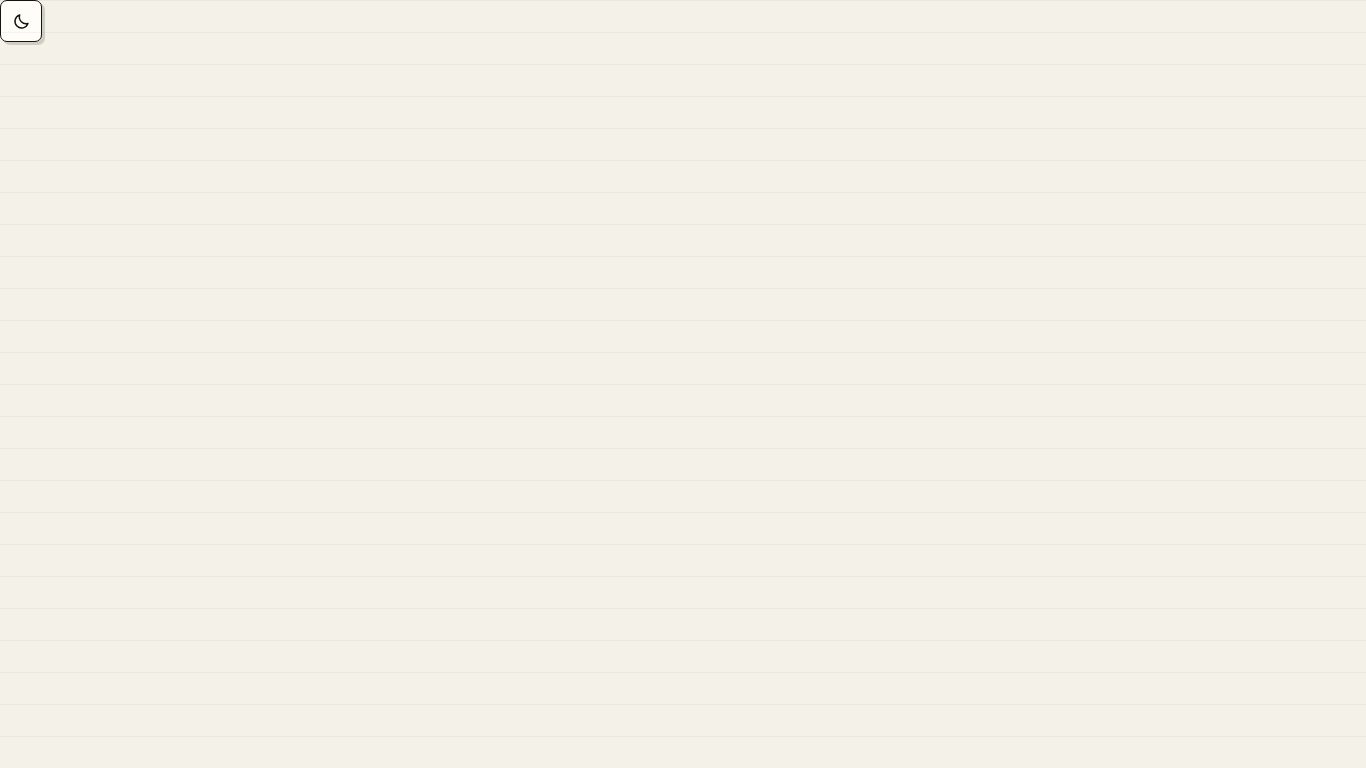
Test: clicking the toggle flips the applied theme, persists it, and tracks aria-pressed
Click the button named "theme".
click(21, 21)  # box [0, 0, 42, 42]
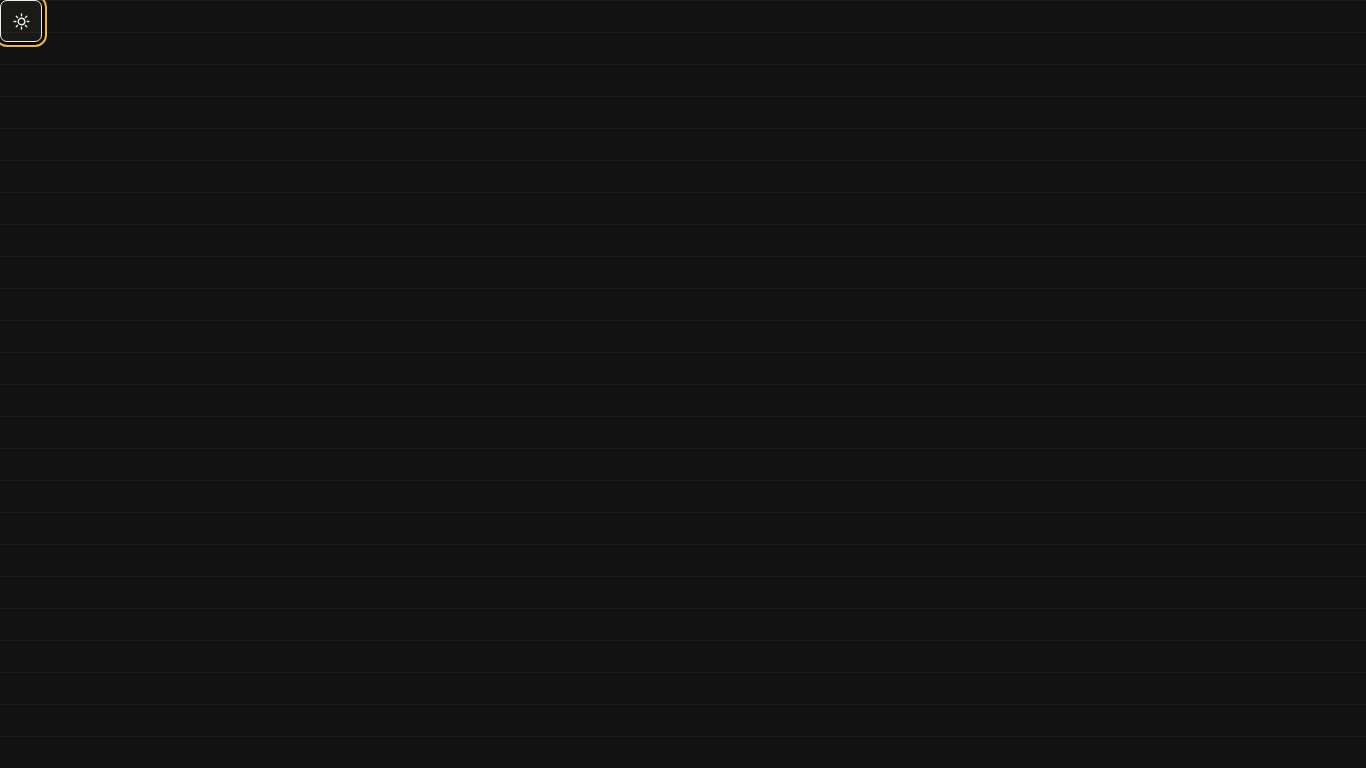
Now the button named "theme" is pressed
Click the button named "theme".
click(21, 21)  # box [0, 0, 42, 42]
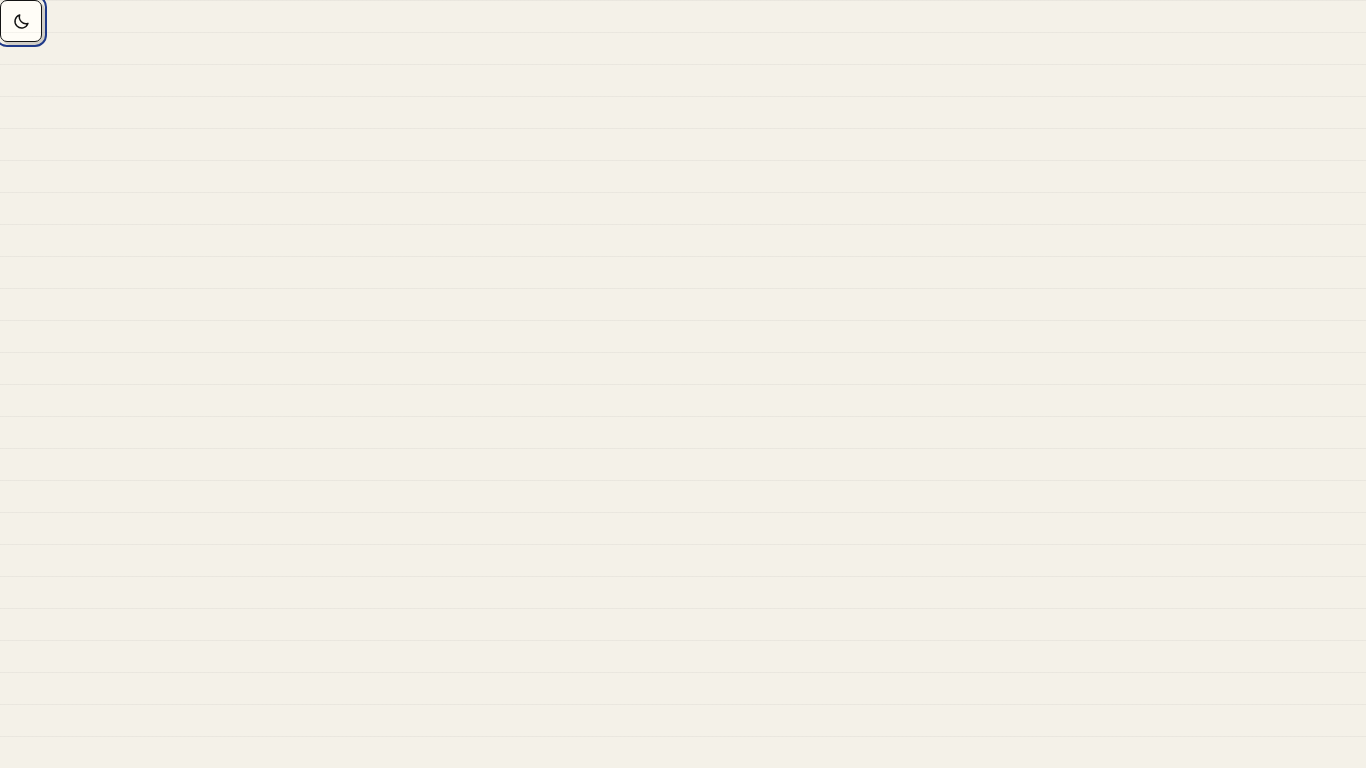
Now the button named "theme" is not pressed, box [0, 0, 42, 42]
